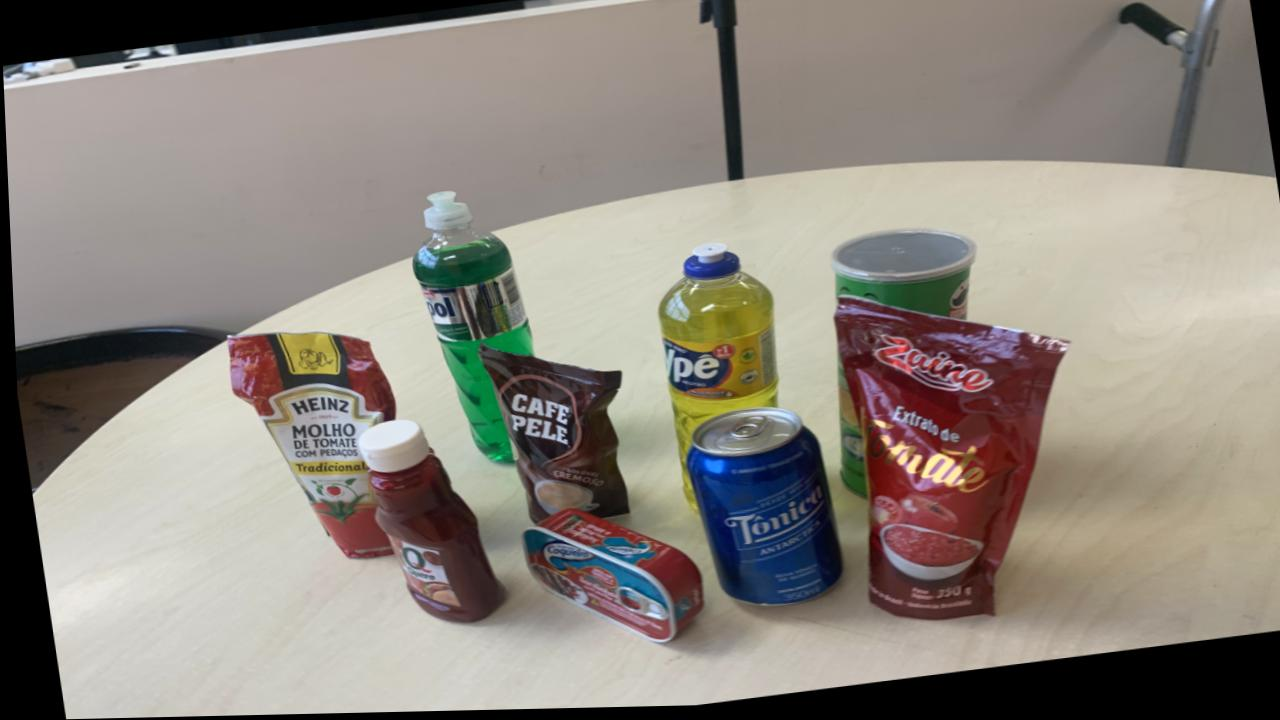Coffee-Pantry_Items: (474, 346, 625, 525)
Detergent-Cleanup_Items: (409, 193, 530, 464), (655, 246, 775, 471)
Ketchup-Pantry_Items: (353, 420, 499, 625)
Pringles-Snacks: (827, 232, 975, 323), (834, 375, 862, 498)
Tomato_Sauce-Pantry_Items: (832, 299, 1066, 624), (223, 332, 392, 560)
Tonic-Drinks: (681, 411, 837, 609)
Tuna_Can-Pantry_Items: (518, 510, 698, 645)
